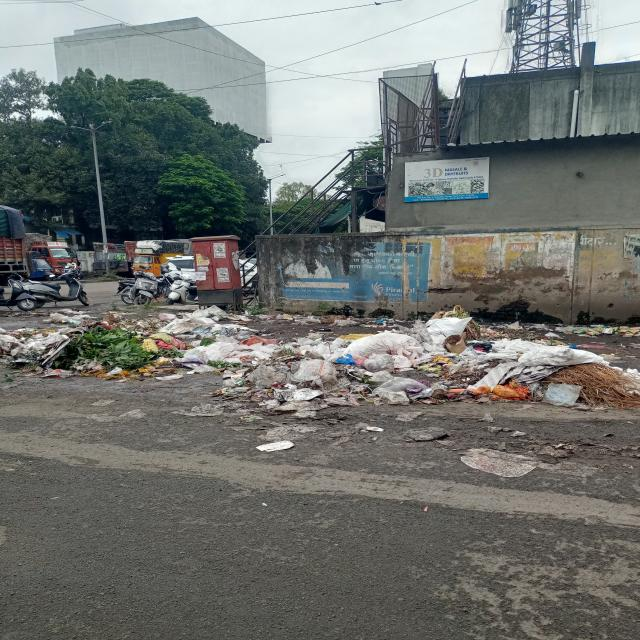garbage: (246, 314, 638, 424), (1, 305, 261, 380)
